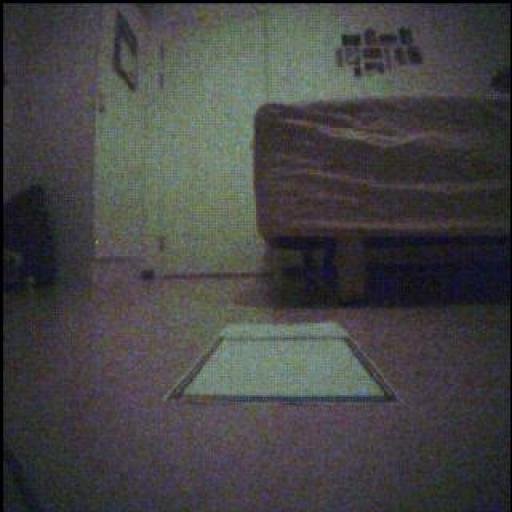pad: (166, 324, 396, 403)
